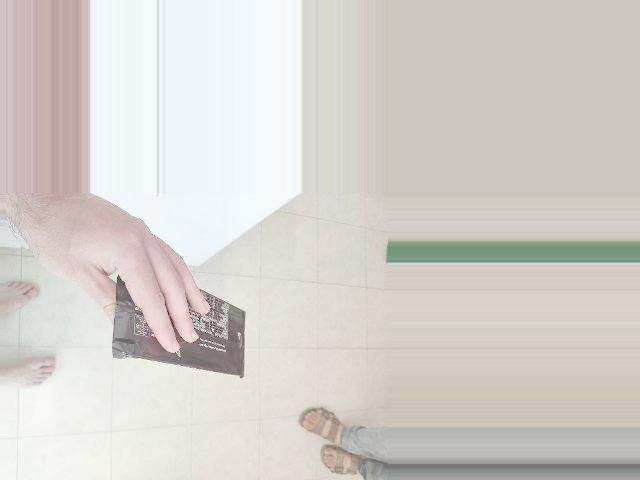chocolate: (165, 328, 292, 474)
